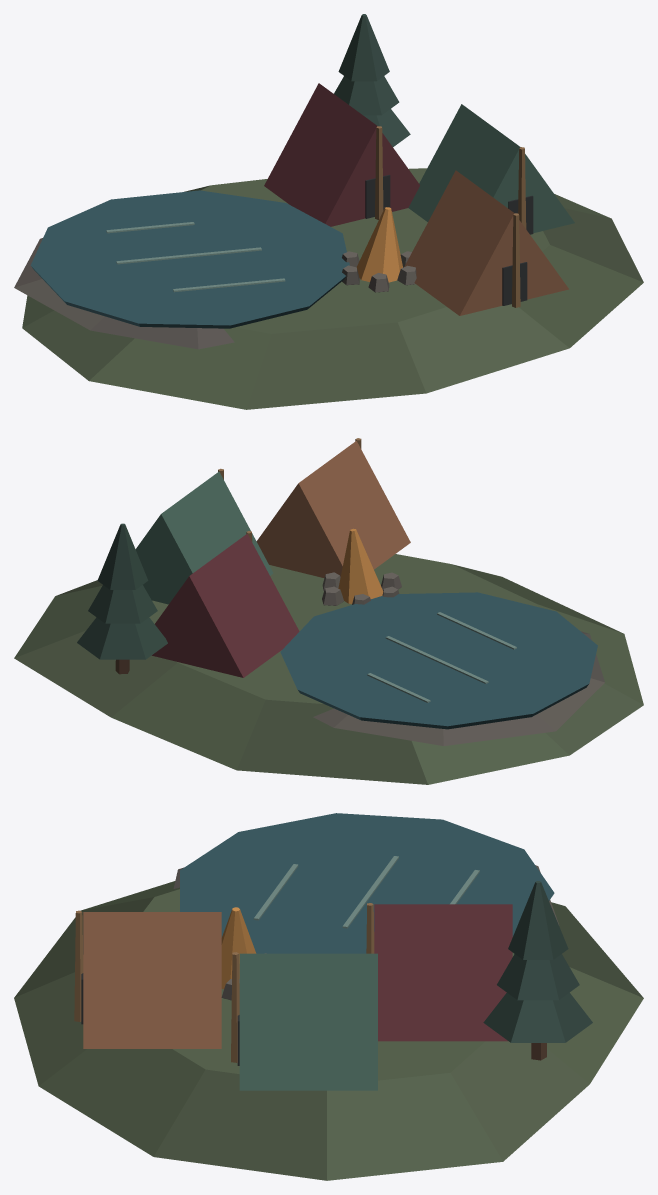
The model's file is tser.glb.
3 views of the same model, one above another, from view 1: azimuth 30°, elevation 25°; view 2: azimuth 150°, elevation 25°; view 3: azimuth 270°, elevation 25° (orthographic). The views are drawn at different scales.
Parts seen in each view (by area): view 1: Tser Pool · atlas landmark; view 2: Tser Pool · atlas landmark; view 3: Tser Pool · atlas landmark.
Part boxes in pixels (x1,y1,x2,y2): Tser Pool · atlas landmark: (14,14,643,409); Tser Pool · atlas landmark: (14,438,643,784); Tser Pool · atlas landmark: (14,813,643,1180).
Bounding box in the file's own units: 2.09 × 0.6904 × 1.73.
